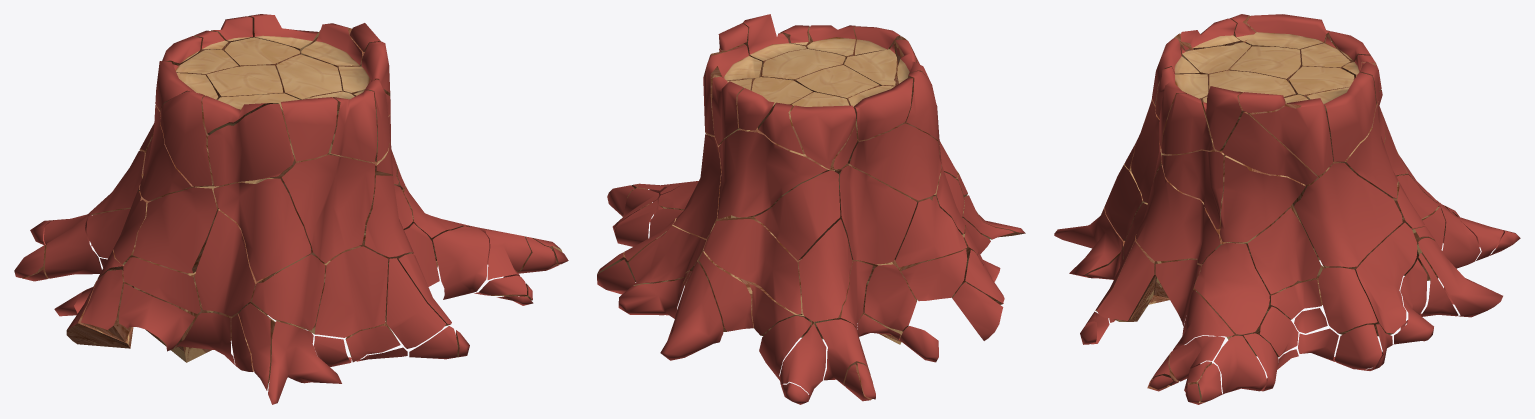
Rendered from TreeStumpKirik.fbx.
3 renders of one model, left to right at view 1: azimuth 30°, elevation 25°; view 2: azimuth 150°, elevation 25°; view 3: azimuth 270°, elevation 25°, orthographic. The views are drawn at different scales.
Parts seen in each view (by area): view 1: ProjektM_Large_high_meshId0_name.002_cell.004, ProjektM_Large_high_meshId0_name.002_cell.077, ProjektM_Large_high_meshId0_name.002_cell.091, ProjektM_Large_high_meshId0_name.002_cell.065, ProjektM_Large_high_meshId0_name.002_cell.018, ProjektM_Large_high_meshId0_name.002_cell.076, ProjektM_Large_high_meshId0_name.002_cell.078, ProjektM_Large_high_meshId0_name.002_cell.059, ProjektM_Large_high_meshId0_name.002_cell.071, ProjektM_Large_high_meshId0_name.002_cell.097, ProjektM_Large_high_meshId0_name.002_cell.011, ProjektM_Large_high_meshId0_name.002_cell.022 (+41 smaller); view 2: ProjektM_Large_high_meshId0_name.002_cell.029, ProjektM_Large_high_meshId0_name.002_cell.008, ProjektM_Large_high_meshId0_name.002_cell.032, ProjektM_Large_high_meshId0_name.002_cell.099, ProjektM_Large_high_meshId0_name.002_cell.090, ProjektM_Large_high_meshId0_name.002_cell.017, ProjektM_Large_high_meshId0_name.002_cell.044, ProjektM_Large_high_meshId0_name.002_cell.053, ProjektM_Large_high_meshId0_name.002_cell.088, ProjektM_Large_high_meshId0_name.002_cell.079, ProjektM_Large_high_meshId0_name.002_cell.086, ProjektM_Large_high_meshId0_name.002_cell.075 (+42 smaller); view 3: ProjektM_Large_high_meshId0_name.002_cell.075, ProjektM_Large_high_meshId0_name.002_cell.022, ProjektM_Large_high_meshId0_name.002_cell.012, ProjektM_Large_high_meshId0_name.002_cell.057, ProjektM_Large_high_meshId0_name.002_cell.088, ProjektM_Large_high_meshId0_name.002_cell.060, ProjektM_Large_high_meshId0_name.002_cell.082, ProjektM_Large_high_meshId0_name.002_cell.035, ProjektM_Large_high_meshId0_name.002_cell.073, ProjektM_Large_high_meshId0_name.002_cell.083, ProjektM_Large_high_meshId0_name.002_cell.049, ProjektM_Large_high_meshId0_name.002_cell.044 (+41 smaller).
Boxes of the visible parts, x1=… form: ProjektM_Large_high_meshId0_name.002_cell.004: x1=270, y1=153, x2=375, y2=263; ProjektM_Large_high_meshId0_name.002_cell.077: x1=213, y1=177, x2=311, y2=281; ProjektM_Large_high_meshId0_name.002_cell.091: x1=308, y1=246, x2=388, y2=337; ProjektM_Large_high_meshId0_name.002_cell.065: x1=133, y1=186, x2=219, y2=273; ProjektM_Large_high_meshId0_name.002_cell.018: x1=208, y1=104, x2=294, y2=186; ProjektM_Large_high_meshId0_name.002_cell.076: x1=194, y1=209, x2=269, y2=316; ProjektM_Large_high_meshId0_name.002_cell.078: x1=251, y1=254, x2=325, y2=330; ProjektM_Large_high_meshId0_name.002_cell.059: x1=160, y1=91, x2=213, y2=186; ProjektM_Large_high_meshId0_name.002_cell.071: x1=432, y1=226, x2=489, y2=299; ProjektM_Large_high_meshId0_name.002_cell.097: x1=268, y1=321, x2=341, y2=404; ProjektM_Large_high_meshId0_name.002_cell.011: x1=385, y1=258, x2=446, y2=348; ProjektM_Large_high_meshId0_name.002_cell.022: x1=359, y1=175, x2=413, y2=261; ProjektM_Large_high_meshId0_name.002_cell.029: x1=717, y1=128, x2=834, y2=219; ProjektM_Large_high_meshId0_name.002_cell.008: x1=834, y1=164, x2=917, y2=264; ProjektM_Large_high_meshId0_name.002_cell.032: x1=703, y1=218, x2=803, y2=314; ProjektM_Large_high_meshId0_name.002_cell.099: x1=847, y1=123, x2=941, y2=200; ProjektM_Large_high_meshId0_name.002_cell.090: x1=754, y1=170, x2=840, y2=260; ProjektM_Large_high_meshId0_name.002_cell.017: x1=798, y1=219, x2=852, y2=321; ProjektM_Large_high_meshId0_name.002_cell.044: x1=660, y1=262, x2=723, y2=360; ProjektM_Large_high_meshId0_name.002_cell.053: x1=894, y1=196, x2=966, y2=267; ProjektM_Large_high_meshId0_name.002_cell.088: x1=628, y1=226, x2=706, y2=285; ProjektM_Large_high_meshId0_name.002_cell.079: x1=858, y1=260, x2=917, y2=344; ProjektM_Large_high_meshId0_name.002_cell.086: x1=790, y1=105, x2=855, y2=169; ProjektM_Large_high_meshId0_name.002_cell.075: x1=673, y1=134, x2=755, y2=240; ProjektM_Large_high_meshId0_name.002_cell.075: x1=1292, y1=161, x2=1402, y2=268; ProjektM_Large_high_meshId0_name.002_cell.022: x1=1136, y1=164, x2=1235, y2=264; ProjektM_Large_high_meshId0_name.002_cell.012: x1=1194, y1=243, x2=1269, y2=339; ProjektM_Large_high_meshId0_name.002_cell.057: x1=1220, y1=155, x2=1305, y2=243; ProjektM_Large_high_meshId0_name.002_cell.088: x1=1351, y1=222, x2=1417, y2=336; ProjektM_Large_high_meshId0_name.002_cell.060: x1=1236, y1=205, x2=1322, y2=294; ProjektM_Large_high_meshId0_name.002_cell.082: x1=1250, y1=94, x2=1333, y2=175; ProjektM_Large_high_meshId0_name.002_cell.035: x1=1306, y1=72, x2=1376, y2=161; ProjektM_Large_high_meshId0_name.002_cell.073: x1=1222, y1=112, x2=1317, y2=185; ProjektM_Large_high_meshId0_name.002_cell.083: x1=1161, y1=138, x2=1225, y2=229; ProjektM_Large_high_meshId0_name.002_cell.049: x1=1318, y1=267, x2=1377, y2=334; ProjektM_Large_high_meshId0_name.002_cell.044: x1=1418, y1=238, x2=1502, y2=317.
Bounding box in the file's own units: 0.6921 × 0.4199 × 0.6367.
2 materials, 1 textured.
